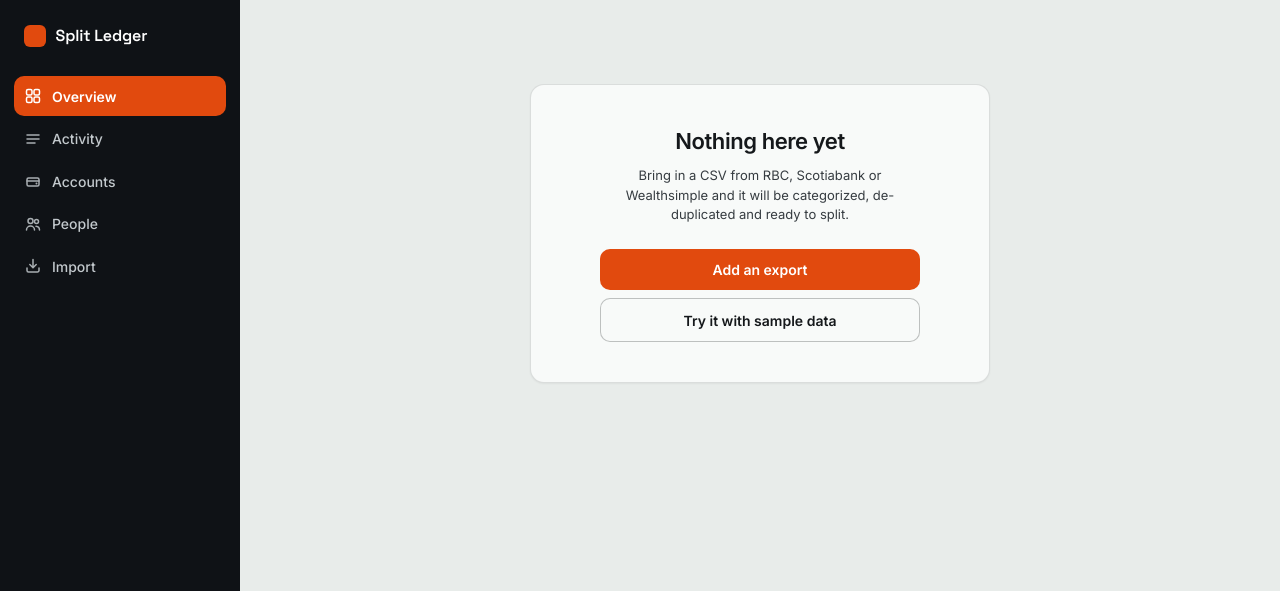
Test: App › imports the fixtures and shows both totals
Click the button "Try it with sample data": (760, 320) [600,298,920,342]
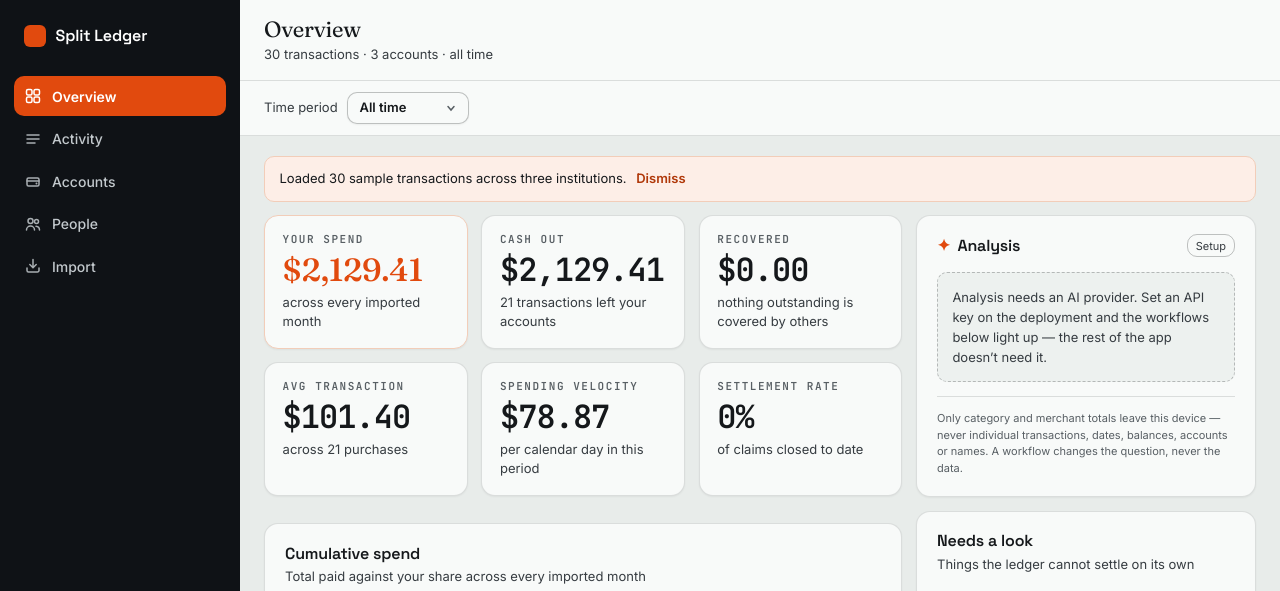
Expected: the text "Your spend" is shown, [283,232,364,246]
